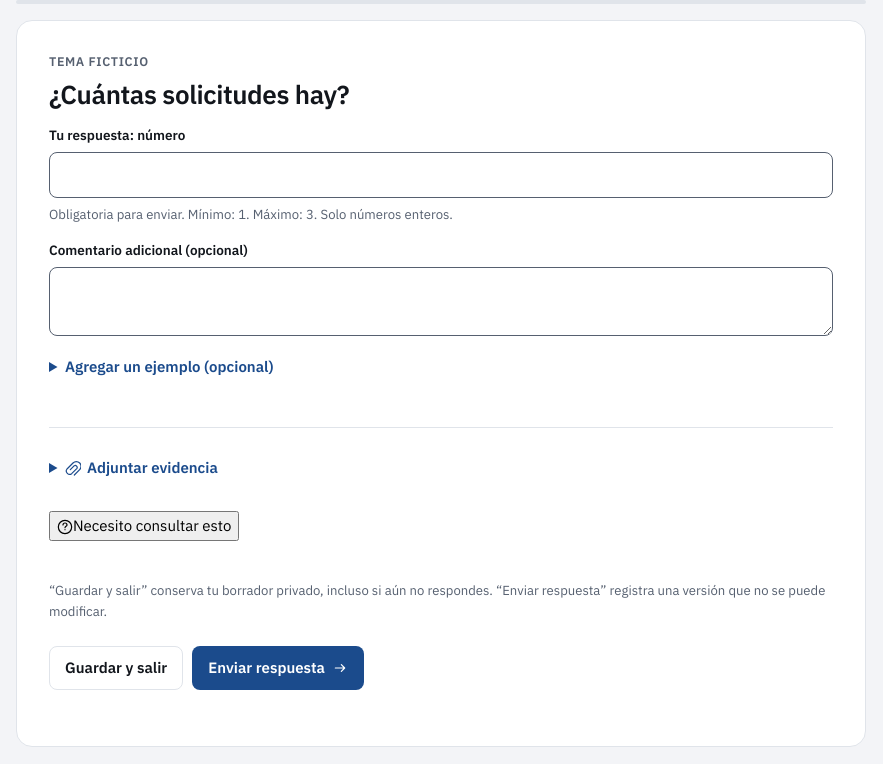
Scenario: un número editado durante el guardado conserva el cambio reciente y su estado pendiente
Type "2" into the field labelled "Tu respuesta: número" at (441, 175), box [49,152,833,198]
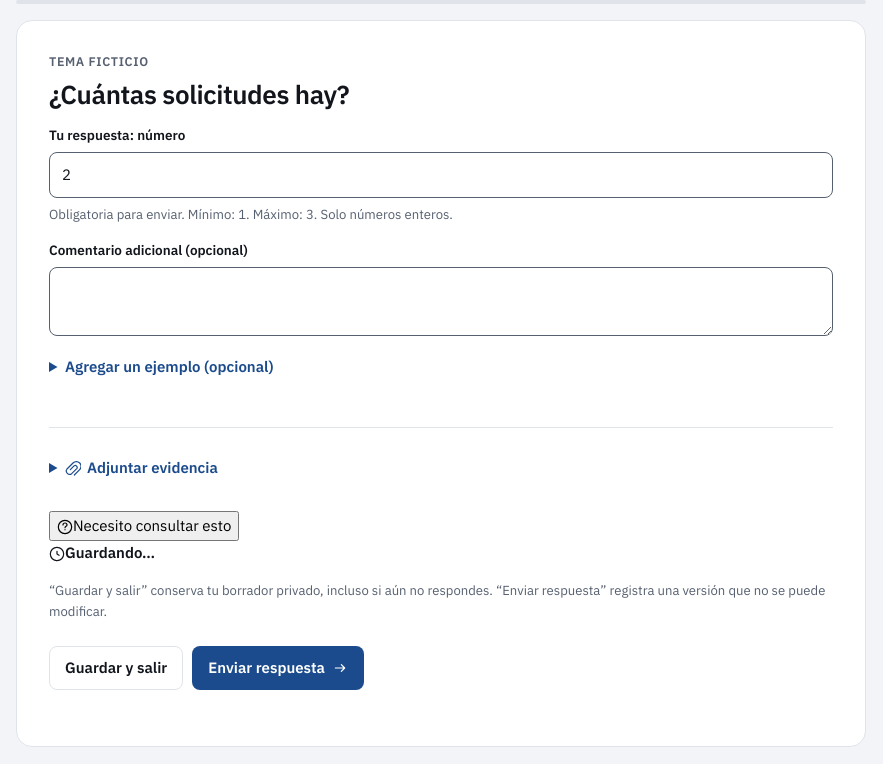
Replace the text in the field labelled "Tu respuesta: número" with "3" at (441, 175), box [49,152,833,198]
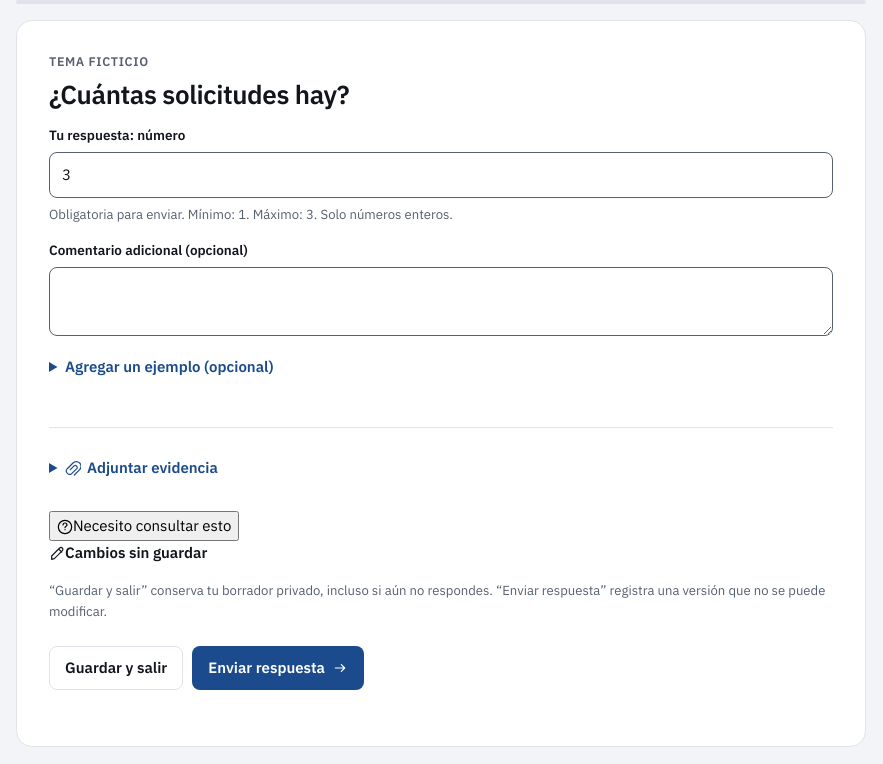
Now the message reads "Cambios sin guardar", box [65,542,207,562]
